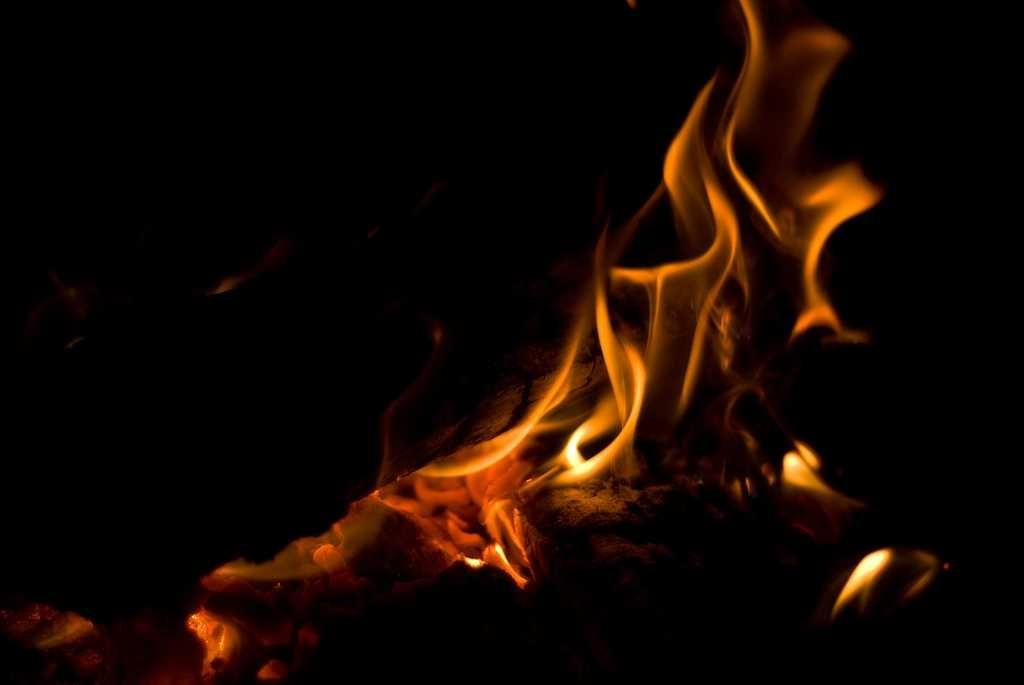fire: (660, 111, 832, 472), (410, 375, 644, 510)
